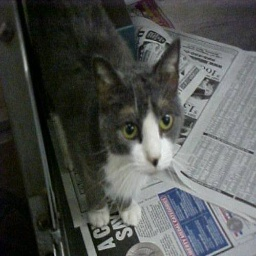cat: (31, 0, 185, 230)
